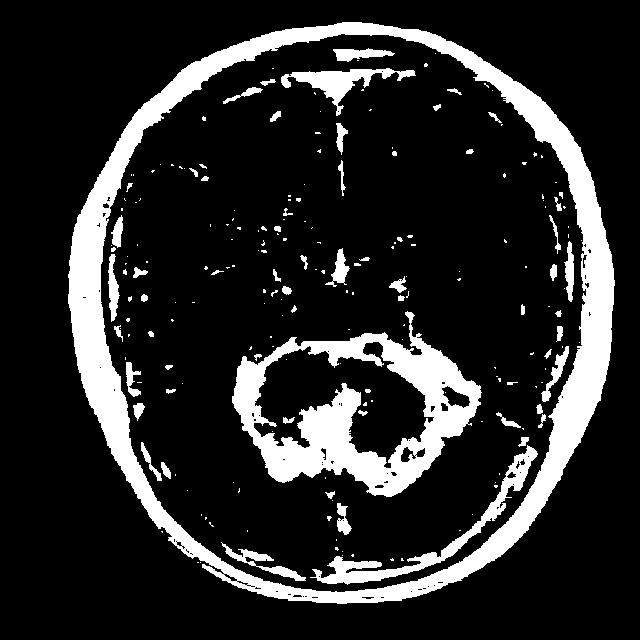Brain-Tumor: (216, 329, 494, 500)
